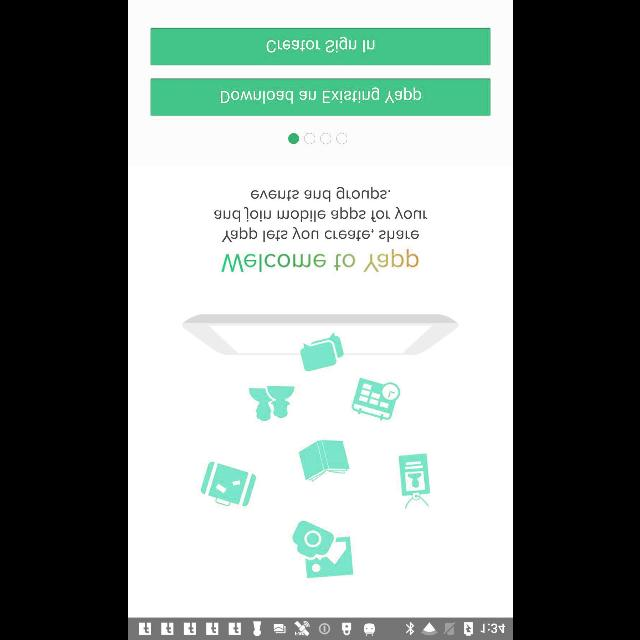image: (181, 313, 459, 579)
pageindicator: (287, 132, 347, 144)
text: (212, 187, 426, 243), (220, 248, 418, 272)
textbutton: (150, 78, 490, 116), (150, 28, 490, 66)
uppertaskbar: (128, 617, 512, 639)
